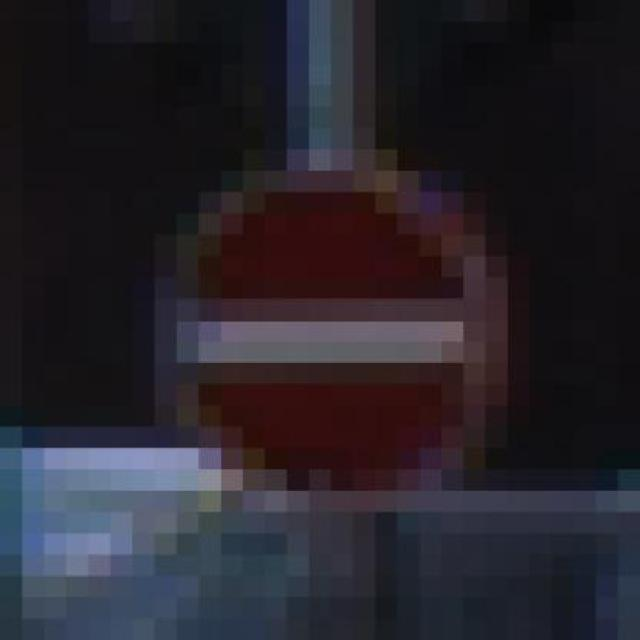B2: (181, 162, 493, 496)
